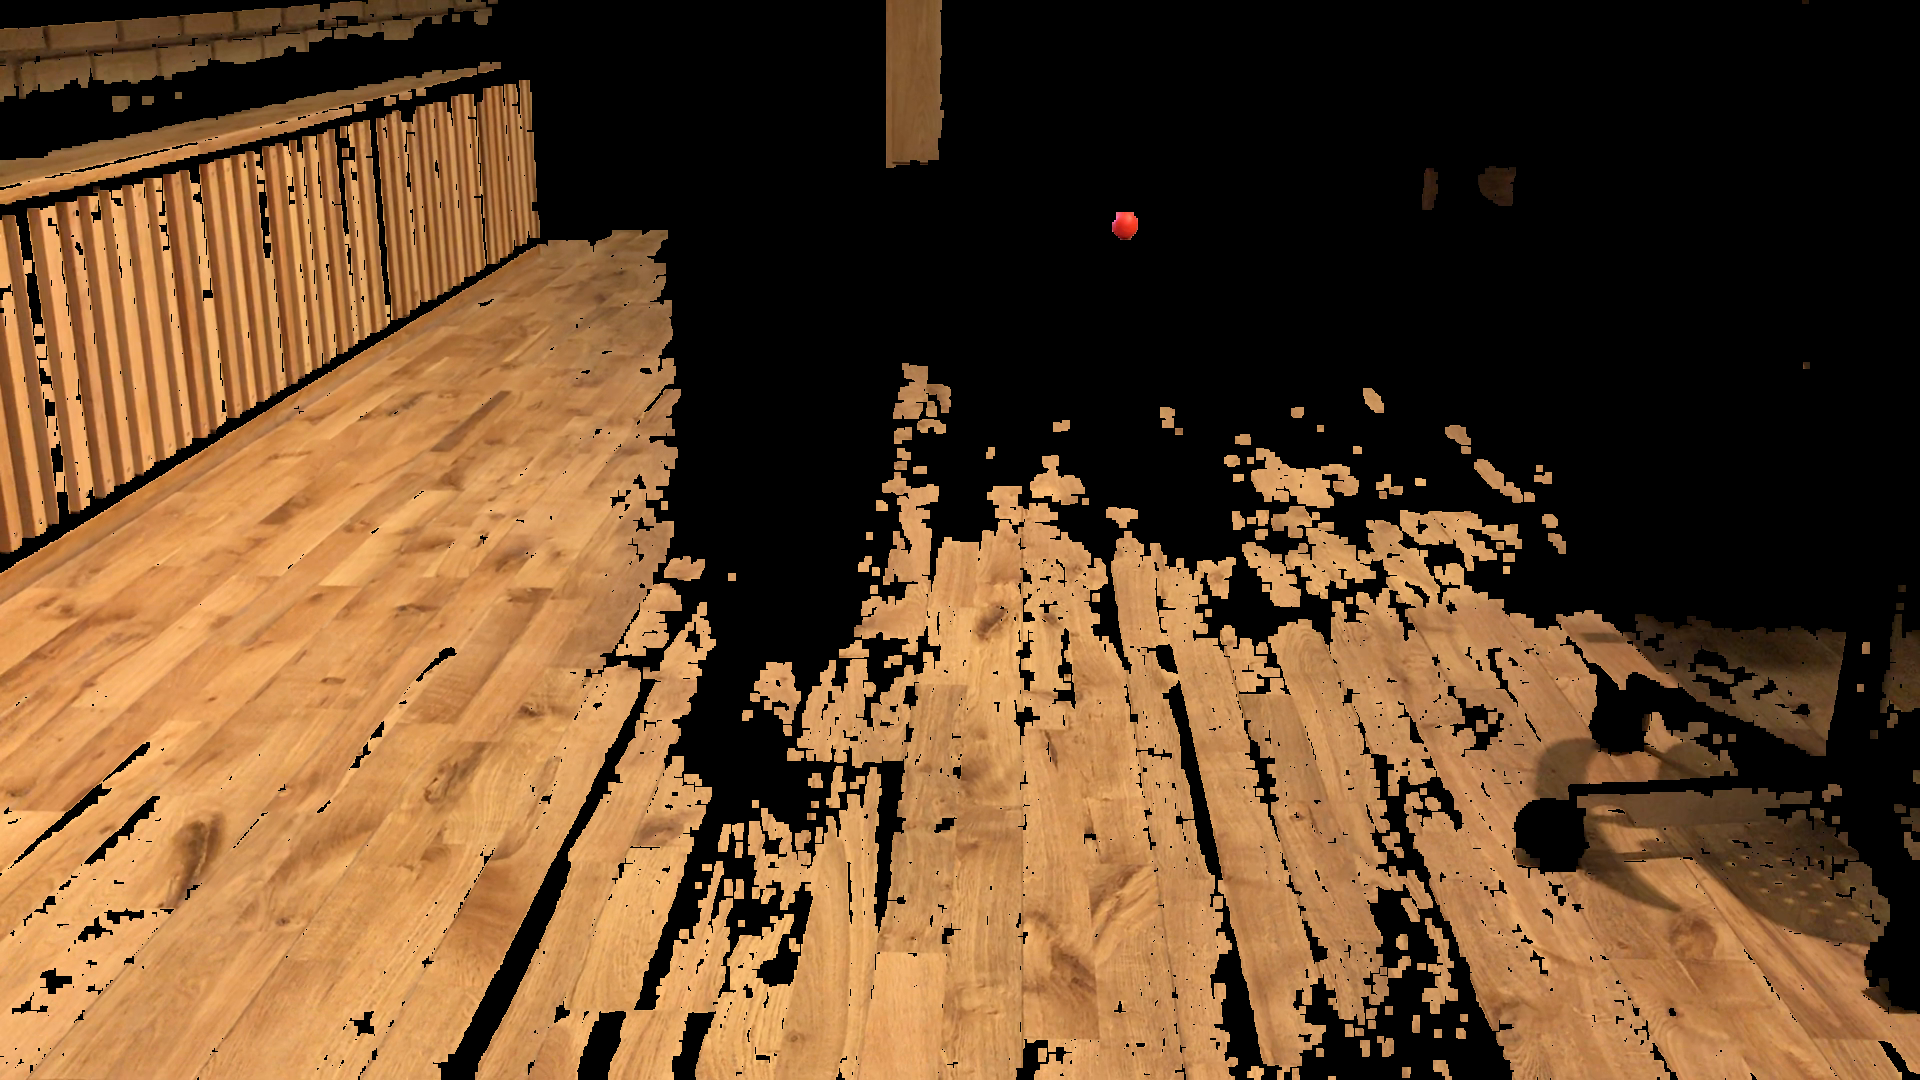Ball: (1112, 207, 1138, 237)
